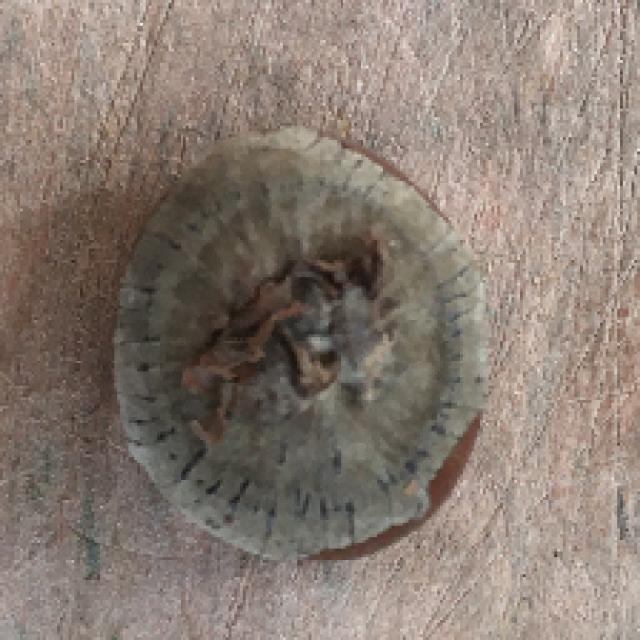damagedHazelnut: (109, 119, 504, 567)
